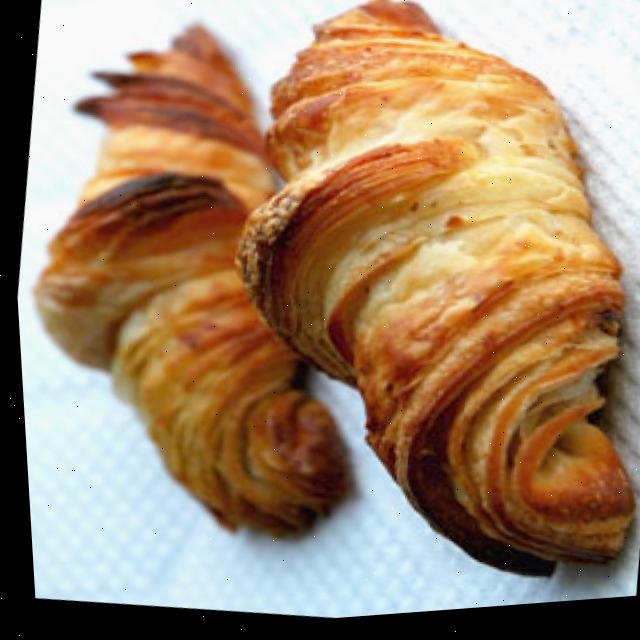面包点心: (158, 0, 640, 629)
